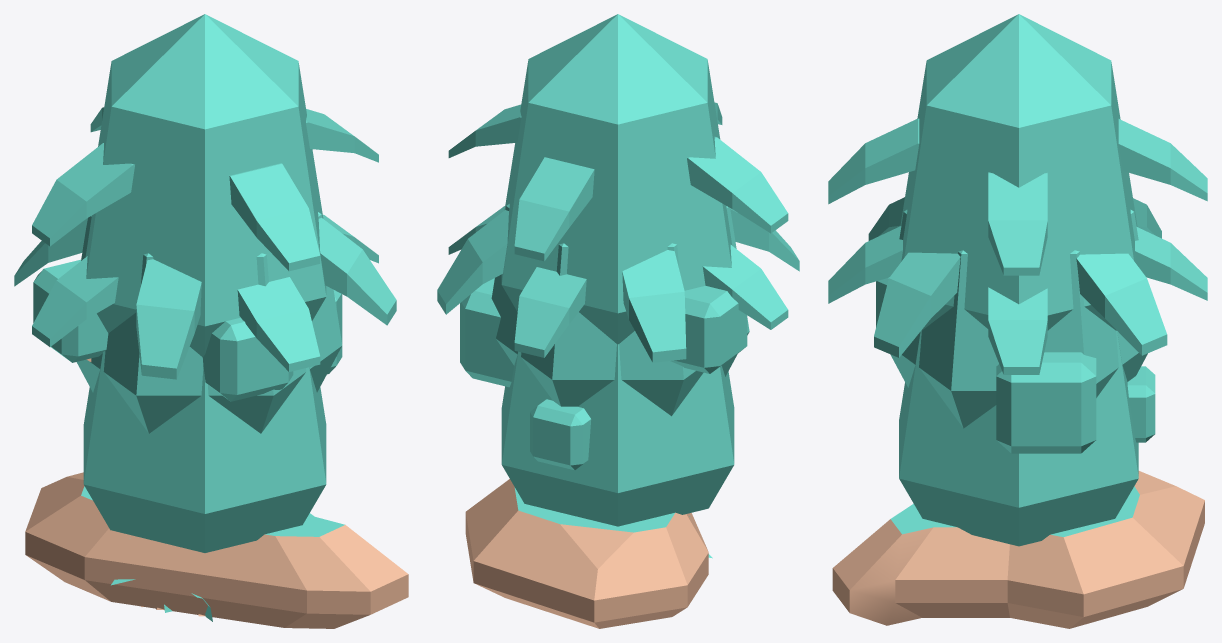
The model's file is lp-nature.glb.
3 views of the same model, side by side, from view 1: azimuth 30°, elevation 25°; view 2: azimuth 150°, elevation 25°; view 3: azimuth 270°, elevation 25° (orthographic). The views are drawn at different scales.
Parts seen in each view (by area): view 1: tree_default, tree_fat, rock_largeA, leafs (×2), tree_palmTall, tree_oak, tree_detailed; view 2: tree_default, tree_fat, rock_largeA, leafs (×2), tree_detailed, tree_palmTall, tree_oak; view 3: tree_default, rock_largeA, tree_fat, leafs (×2), tree_palmTall, tree_oak, tree_detailed.
Boxes of the visible parts, x1,y1,x2,y2 form: tree_default: [85, 14, 326, 357]; tree_fat: [83, 351, 326, 552]; rock_largeA: [25, 472, 408, 628]; leafs (×2): [14, 214, 396, 379]; tree_palmTall: [32, 107, 378, 271]; tree_oak: [76, 212, 342, 616]; tree_detailed: [33, 259, 342, 401]; tree_default: [501, 14, 732, 344]; tree_fat: [501, 344, 734, 526]; rock_largeA: [465, 479, 708, 628]; leafs (×2): [437, 206, 799, 362]; tree_detailed: [460, 278, 747, 470]; tree_palmTall: [448, 102, 788, 261]; tree_oak: [491, 203, 749, 416]; tree_default: [900, 14, 1137, 330]; rock_largeA: [832, 471, 1204, 628]; tree_fat: [899, 330, 1138, 546]; leafs (×2): [828, 197, 1207, 374]; tree_palmTall: [828, 118, 1207, 275]; tree_oak: [890, 209, 1147, 428]; tree_detailed: [876, 277, 1155, 453].
Size of the model in its own units: 1.03 by 1.71 by 1.03.
